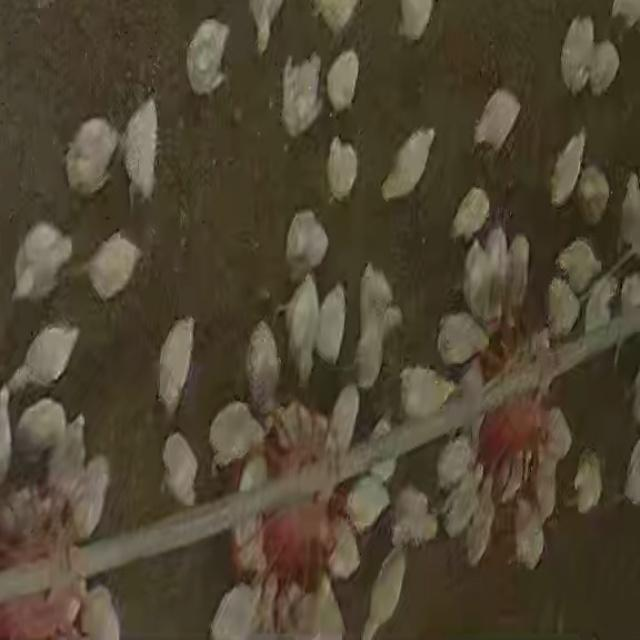chicken: (10, 321, 80, 400), (12, 220, 78, 302), (358, 545, 408, 640), (63, 116, 117, 197), (85, 228, 145, 298), (380, 127, 436, 202), (156, 315, 197, 417), (281, 274, 320, 379), (123, 96, 161, 202), (206, 400, 263, 470), (280, 52, 325, 137), (69, 453, 113, 537), (185, 18, 231, 98), (13, 396, 70, 459), (396, 361, 456, 420), (472, 90, 524, 158), (246, 319, 282, 414), (435, 310, 490, 370), (548, 129, 588, 210), (388, 482, 437, 548), (160, 431, 201, 508), (284, 210, 329, 280), (344, 473, 392, 537), (554, 236, 602, 299), (559, 15, 595, 95), (443, 462, 482, 534), (316, 282, 348, 367), (468, 474, 496, 563), (324, 47, 361, 113), (450, 185, 491, 241), (569, 450, 604, 514), (575, 162, 611, 224), (547, 276, 581, 341), (326, 140, 360, 203), (336, 382, 365, 452), (589, 38, 621, 96), (516, 498, 544, 564), (548, 404, 576, 457), (537, 456, 559, 519)
